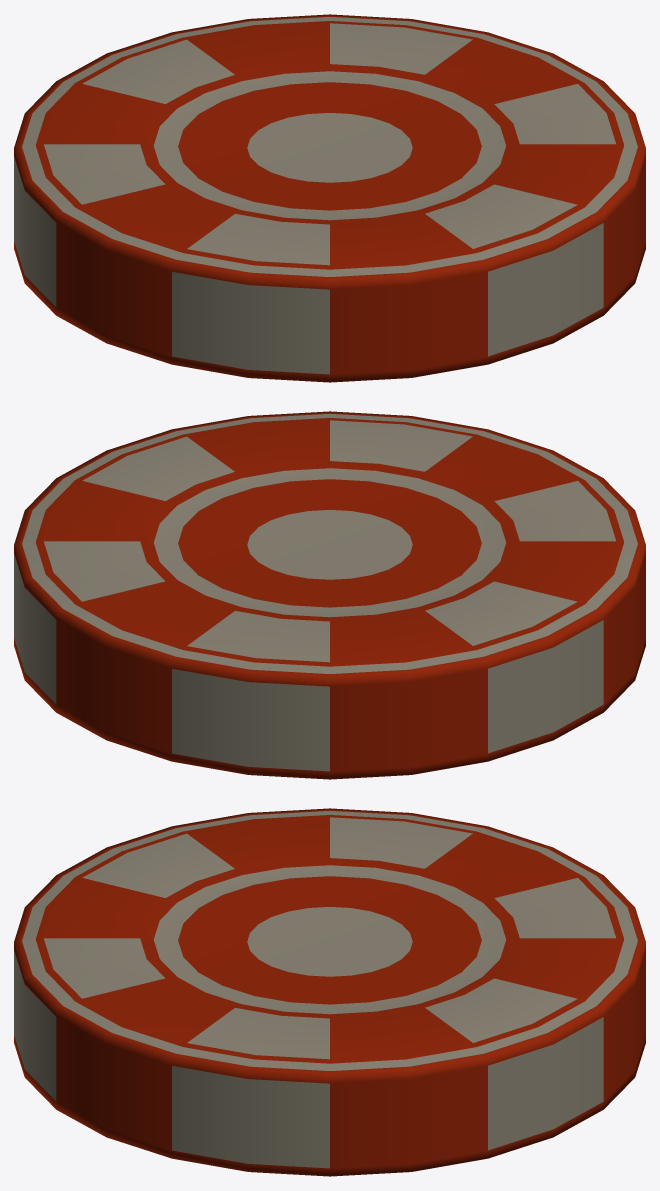
Rendered from chip_red.fbx.
3 renders of one model, top to bottom at view 1: azimuth 30°, elevation 25°; view 2: azimuth 150°, elevation 25°; view 3: azimuth 270°, elevation 25°, orthographic.
Visible parts, largest first — view 1: Chip.001; view 2: Chip.001; view 3: Chip.001.
Part boxes in pixels (box(x1,y1,x2,y2)): Chip.001: box(14, 14, 645, 382); Chip.001: box(14, 411, 645, 779); Chip.001: box(14, 808, 645, 1176).
Size of the model in its own units: 3.68 by 0.6969 by 3.68.
